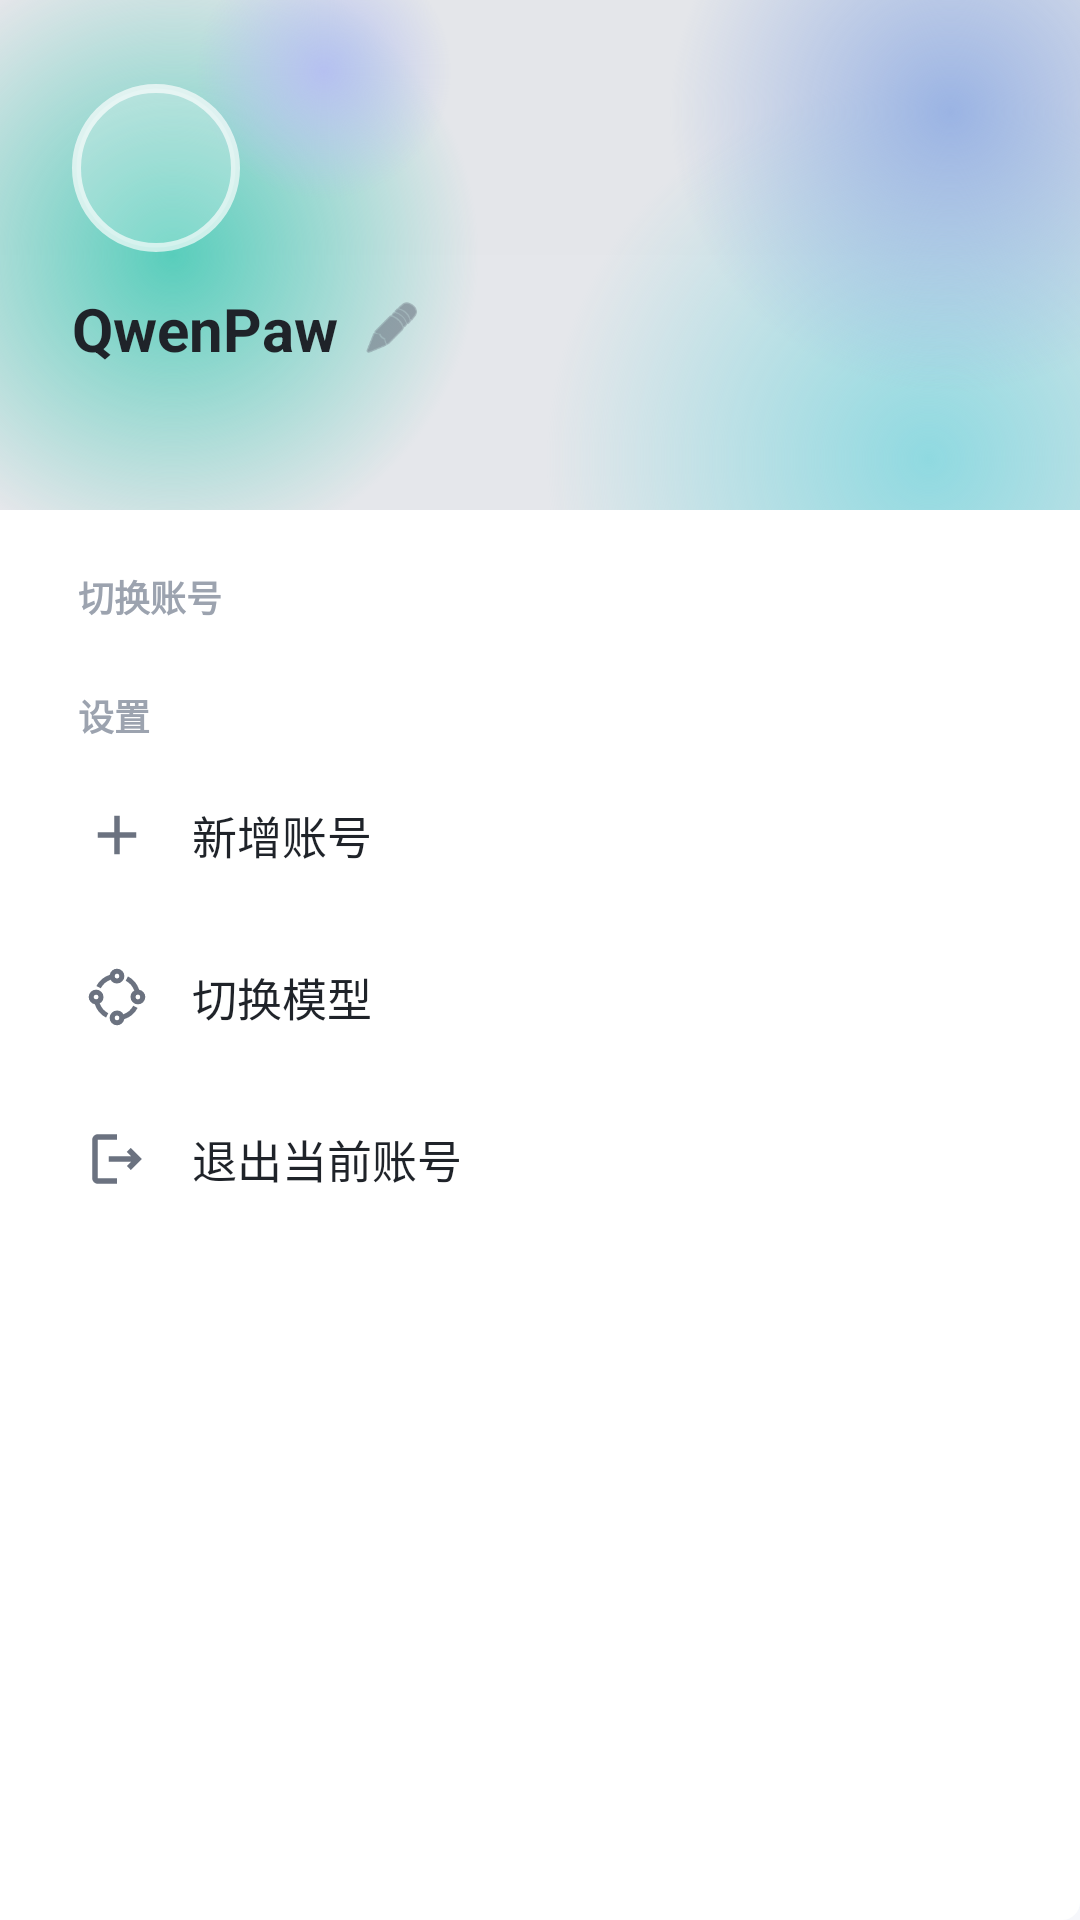

Screen size 1080x1920. Icon name, then its box in pixels as bbox=(x1, y1, x2, y2):
add: bbox=(97, 815, 137, 855)
switch model: bbox=(88, 968, 146, 1026)
编辑别名: bbox=(362, 298, 422, 358)
